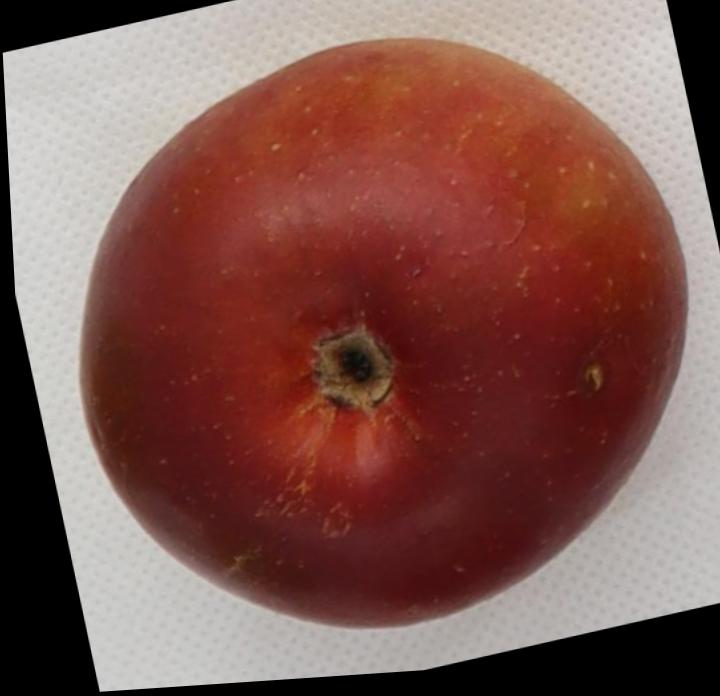apple: (81, 40, 687, 628)
surface_damage: (583, 364, 602, 392)
